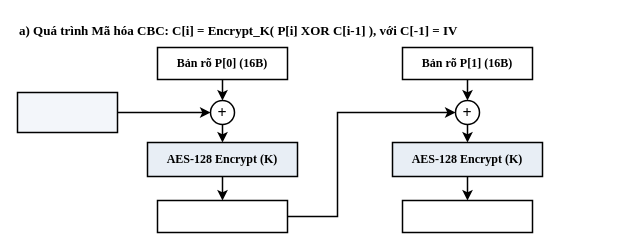
Image size: 635x250. Some labels were removed from this diagram. Here are the shapes that lost their labels. From the top down, the centre of each, then its label:
At point 67,112: "IV (16B) ngẫu nhiên".
At point 222,216: "Bản mã C[0] (16B)".
At point 467,216: "Bản mã C[1] (16B)".
